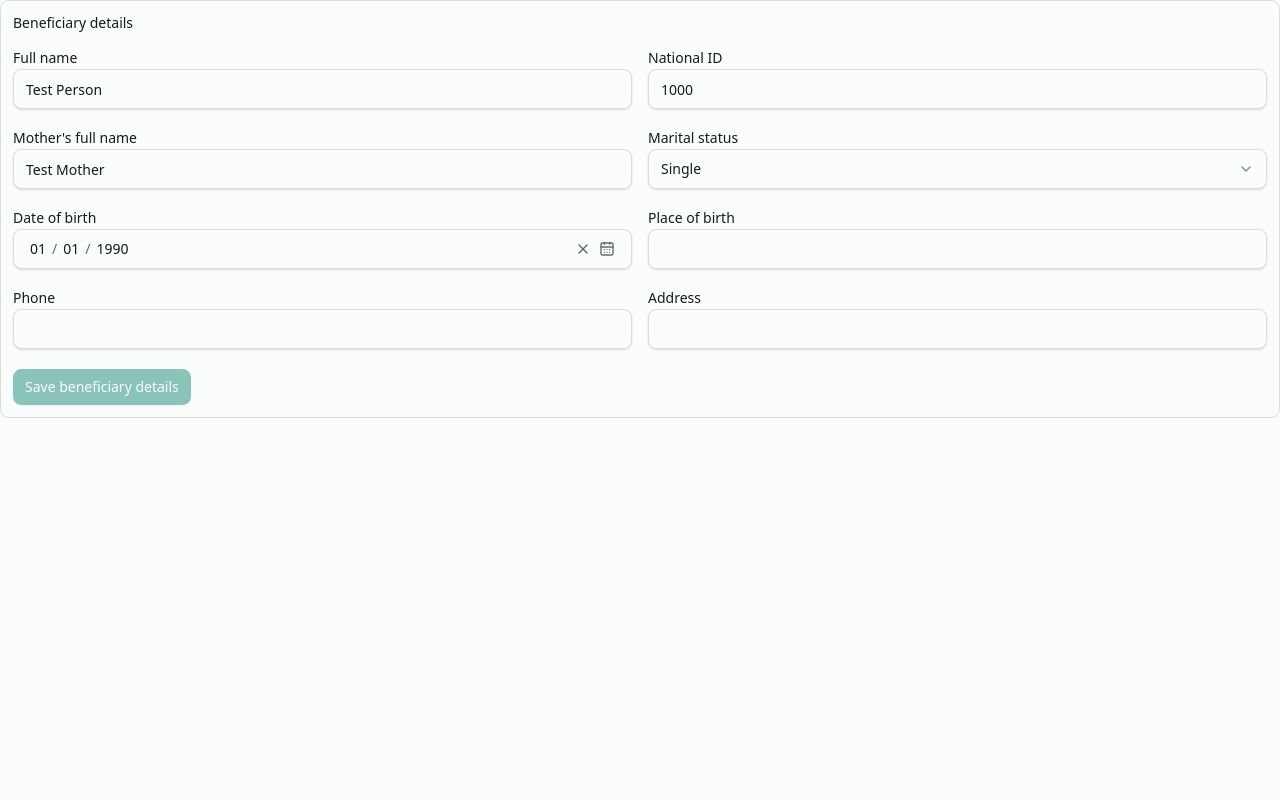
Test case: ClientDetailsPanel › hides the spouse block until the client is married
Expected: the field labelled "Spouse name" is not shown
Select "Married" in the dropdown labelled "Marital status" at {"x": 958, "y": 169}, box [648, 149, 1267, 189]
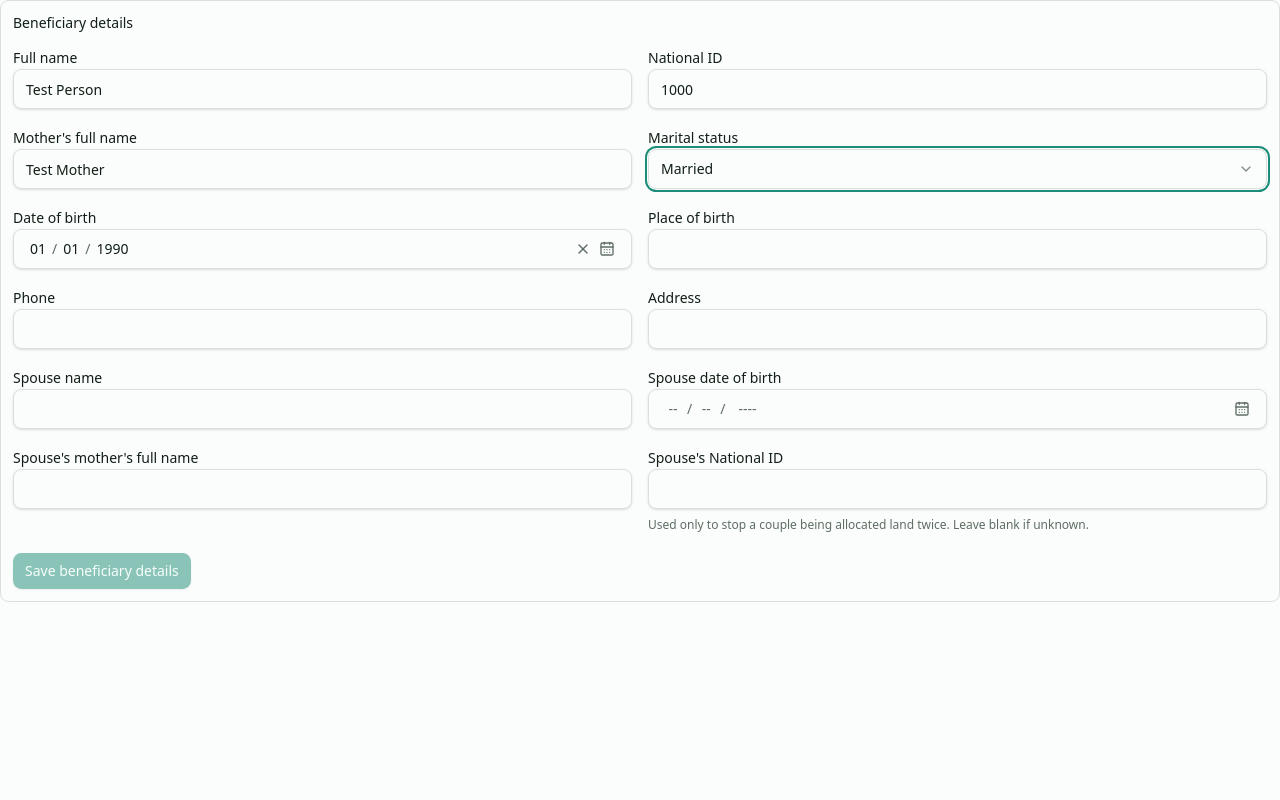
Expected: the field labelled "Spouse name" is shown, [13, 389, 632, 429]
Expected: the field labelled "Spouse date of birth" is shown, [661, 399, 685, 419]
Expected: the field labelled "Spouse's mother's full name" is shown, [13, 469, 632, 509]
